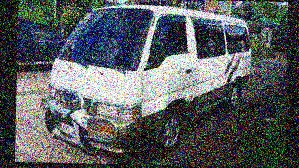van: (46, 0, 255, 151)
